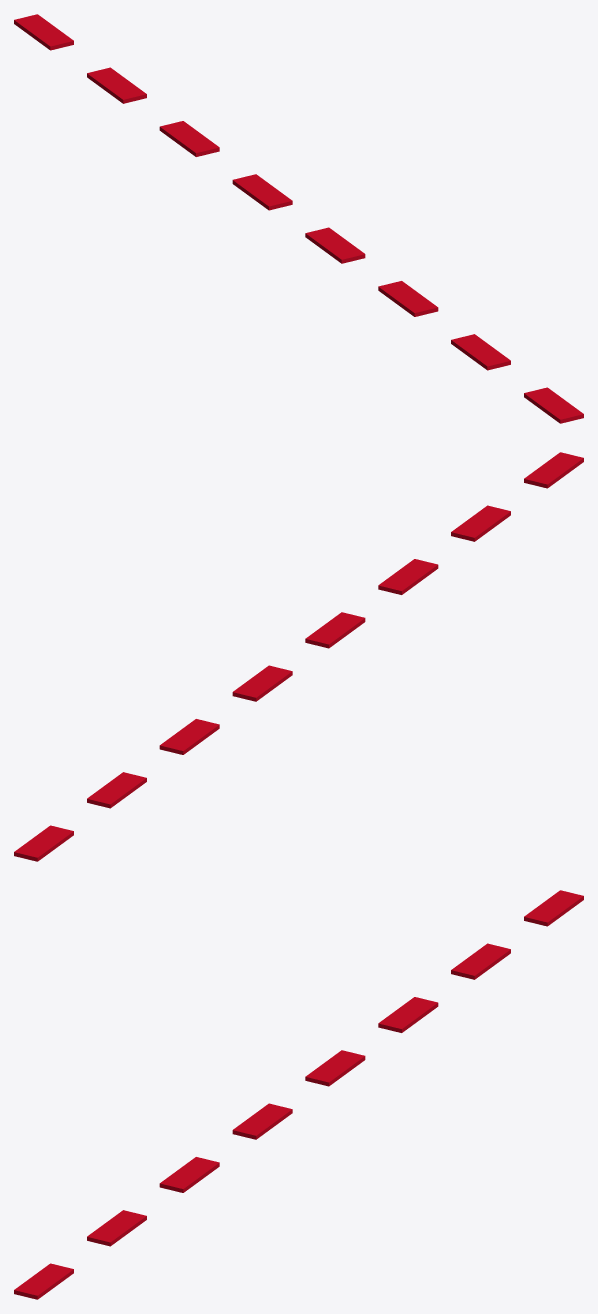
Rendered from finish_line.dae.
3 views of the same model, one above another, from view 1: azimuth 30°, elevation 25°; view 2: azimuth 150°, elevation 25°; view 3: azimuth 330°, elevation 25° (orthographic).
Parts seen in each view (by area): view 1: Plane; view 2: Plane; view 3: Plane.
Boxes of the visible parts, bbox=[...] form: Plane: bbox=[14, 14, 583, 423]; Plane: bbox=[14, 452, 583, 861]; Plane: bbox=[14, 890, 583, 1299].
Size of the model in its own units: 0.25 by 10 by 0.0404.
